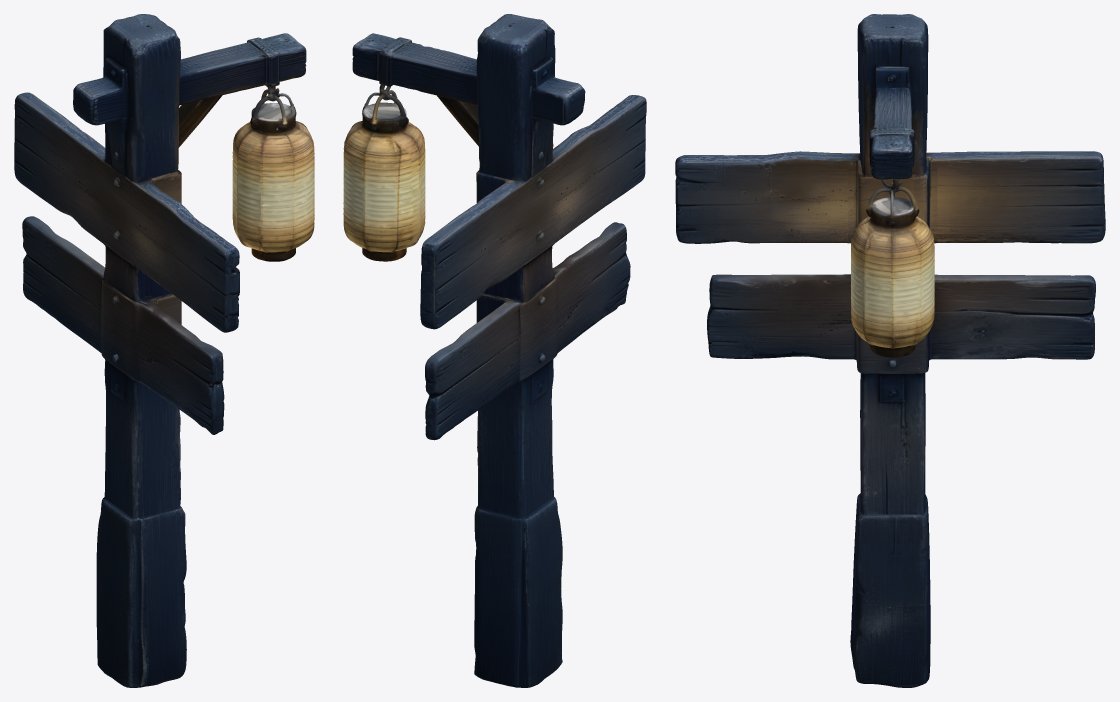
File: signpost.glb
3 renders of one model, left to right at view 1: azimuth 30°, elevation 25°; view 2: azimuth 150°, elevation 25°; view 3: azimuth 270°, elevation 25°, orthographic.
Visible parts, largest first — view 1: node_0; view 2: node_0; view 3: node_0.
Part boxes in pixels (x1,y1,x2,y2): node_0: (14,14,314,687); node_0: (343,14,646,687); node_0: (675,14,1105,687).
Size of the model in its own units: 0.4318 by 1.16 by 0.6972.
1 material, 1 textured.
